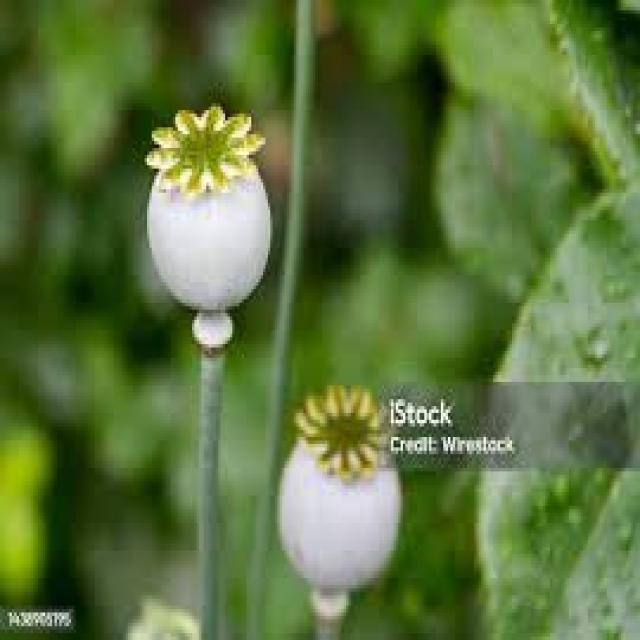Unbloomed: (142, 100, 273, 313)
